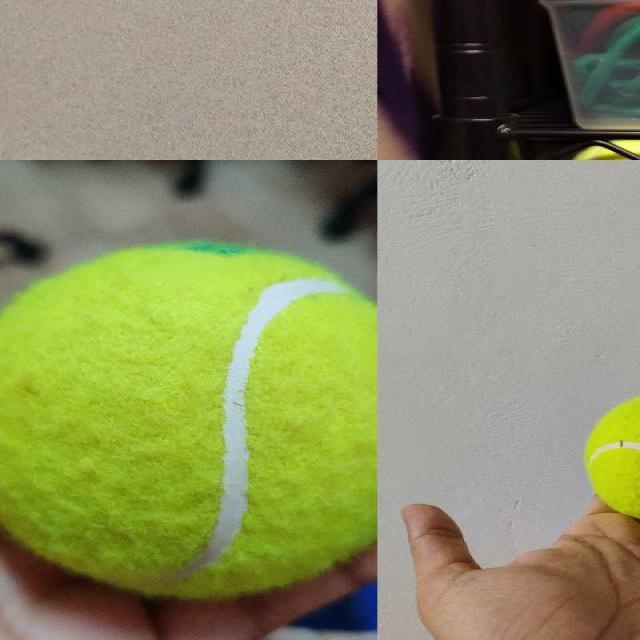tennis-ball: (0, 243, 376, 596), (581, 391, 639, 528)
